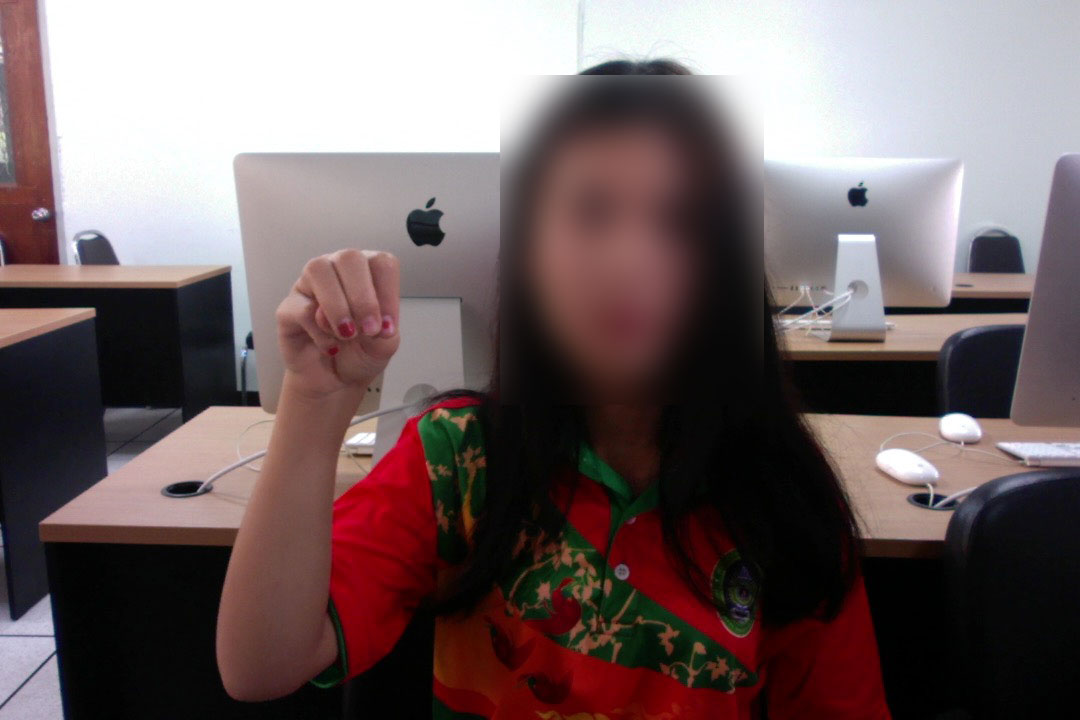mor: (277, 236, 408, 406)
